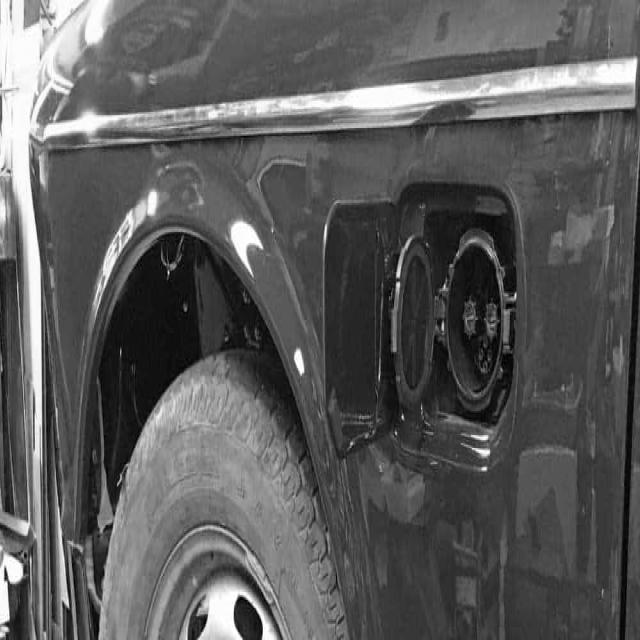CHAdeMO: (437, 208, 518, 420)
